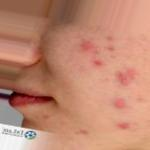Acne: (106, 93, 141, 125), (108, 60, 145, 89), (103, 115, 138, 143), (88, 51, 104, 76), (79, 38, 100, 56)
